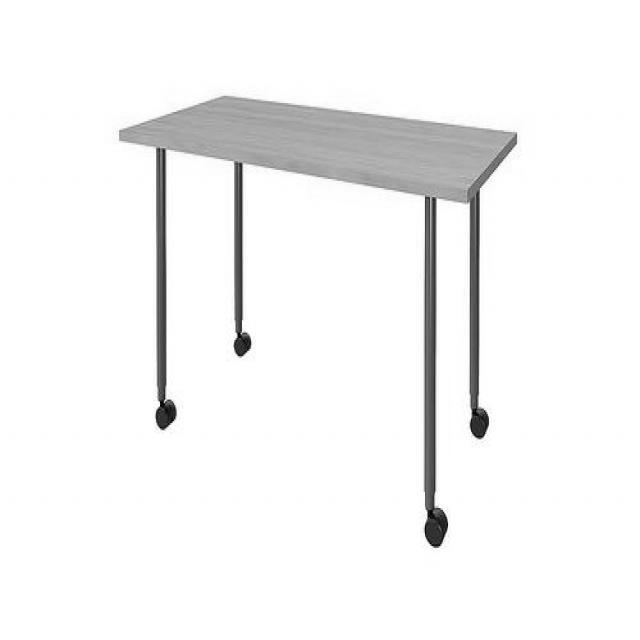table: (118, 94, 519, 548)
